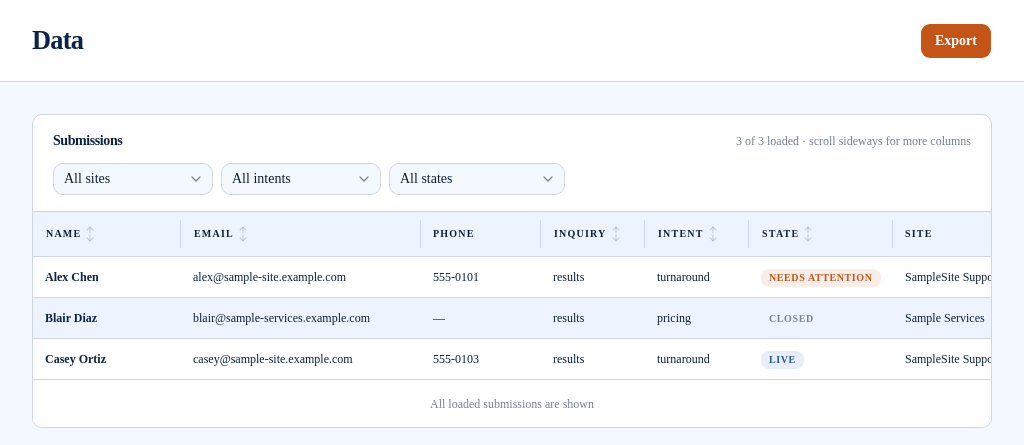
Test: data console filters › intent filter keeps Alex and Casey on turnaround
Click the dropdown labelled "intent".
click(301, 179)  # box [221, 163, 381, 195]
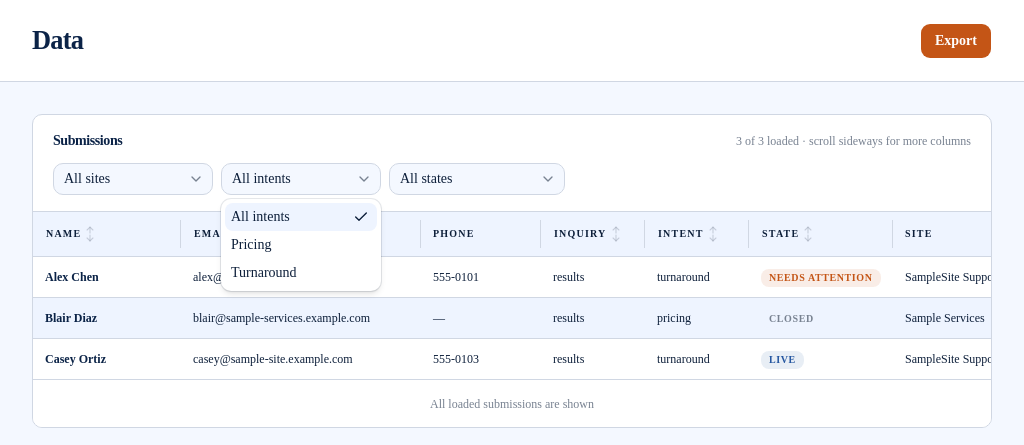
Click the option "Turnaround".
click(264, 272)  # box [231, 265, 297, 280]
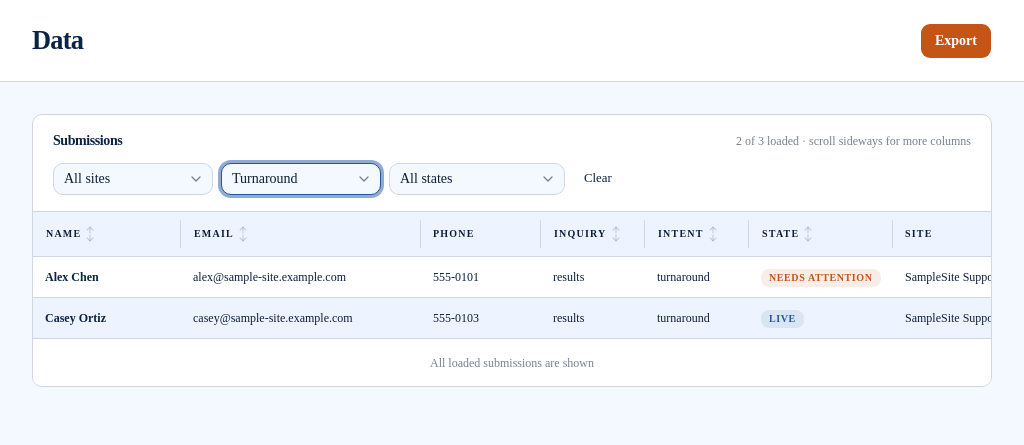
Expected: the text "Alex Chen" is shown, [33, 256, 181, 298]
Expected: the text "Blair Diaz" is gone
